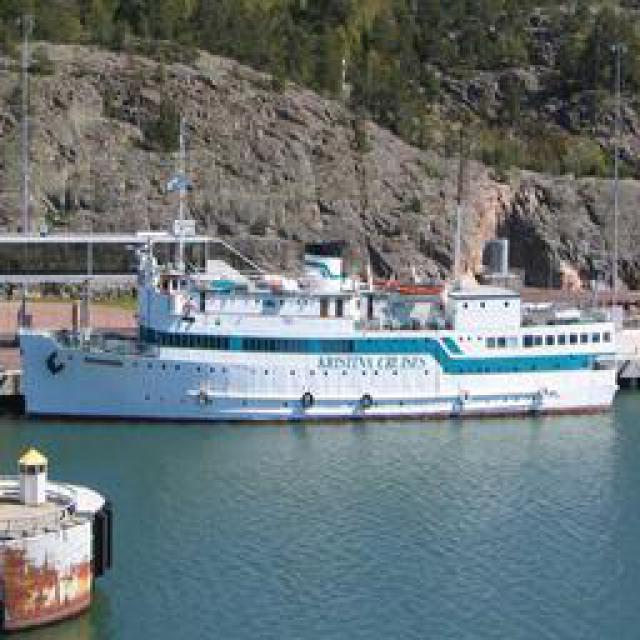Ship: (4, 264, 637, 424)
